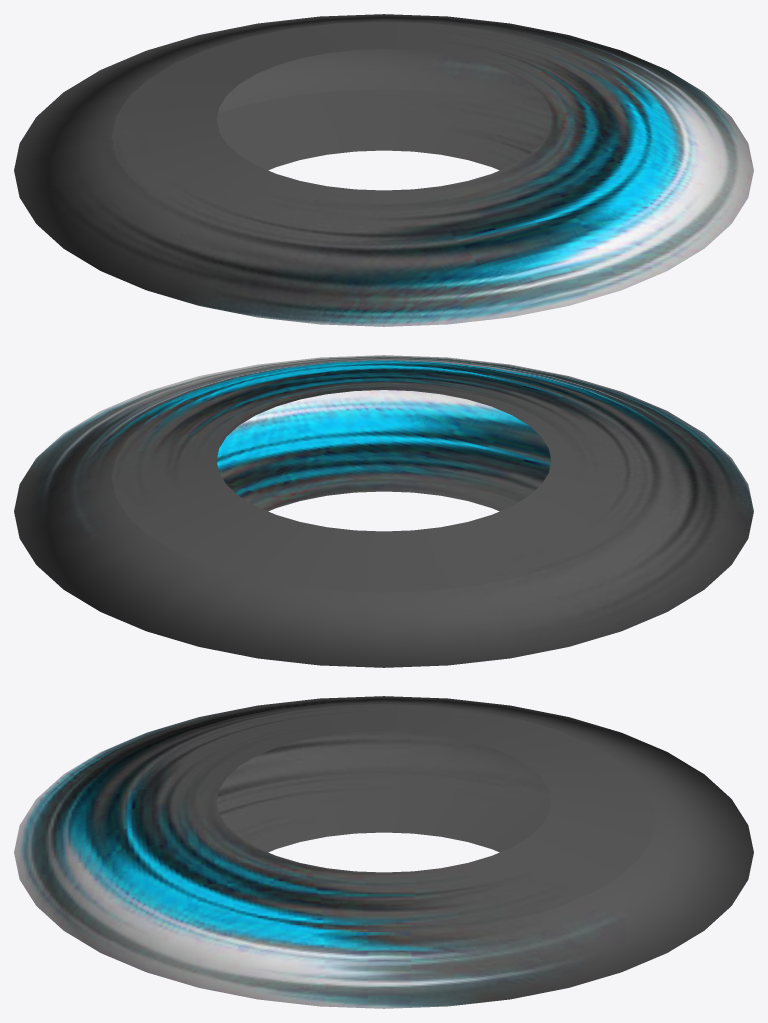
The model's file is trail.FBX.
3 views of the same model, one above another, from view 1: azimuth 30°, elevation 25°; view 2: azimuth 150°, elevation 25°; view 3: azimuth 270°, elevation 25° (orthographic).
Visible parts, largest first — view 1: Cylinder001; view 2: Cylinder001; view 3: Cylinder001.
Part boxes in pixels (x1=…): Cylinder001: x1=14, y1=14, x2=753, y2=326; Cylinder001: x1=14, y1=355, x2=753, y2=667; Cylinder001: x1=14, y1=696, x2=753, y2=1008.
Size of the model in its own units: 38.49 by 5.82 by 38.49.
